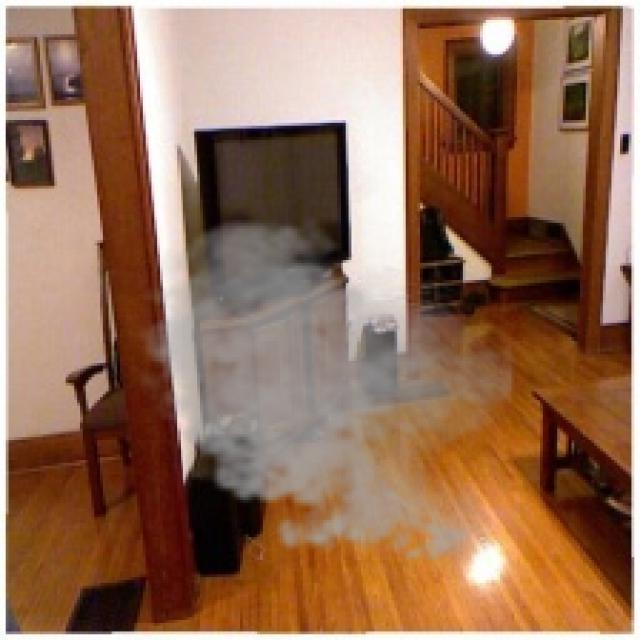Smoke: (128, 212, 518, 574)
